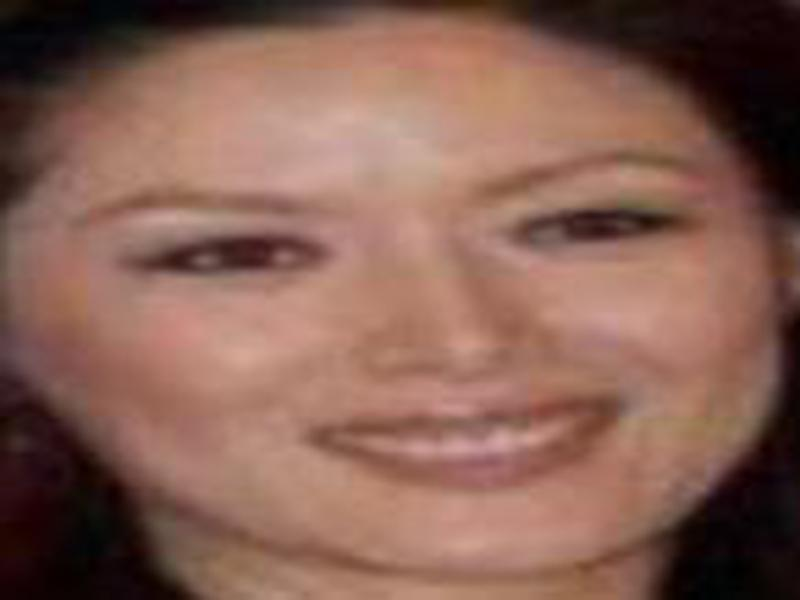without_mask: (10, 65, 782, 582)
